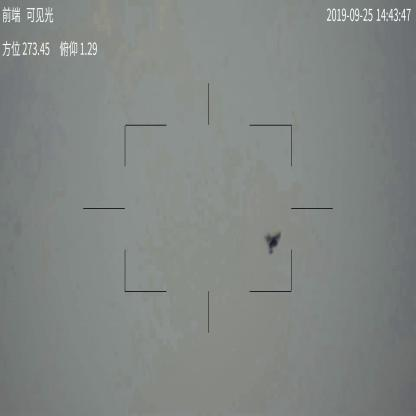uav: (265, 228, 285, 255)
